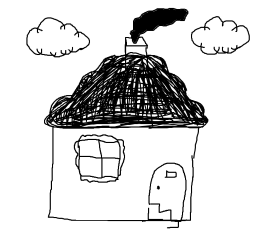closed_window: (66, 132, 133, 184)
clouds: (185, 12, 255, 65), (19, 11, 94, 60)
door: (144, 148, 190, 231)
shaded_roof: (40, 51, 212, 131)
smoking_chimney: (111, 3, 190, 61)
wall: (39, 123, 208, 226)
